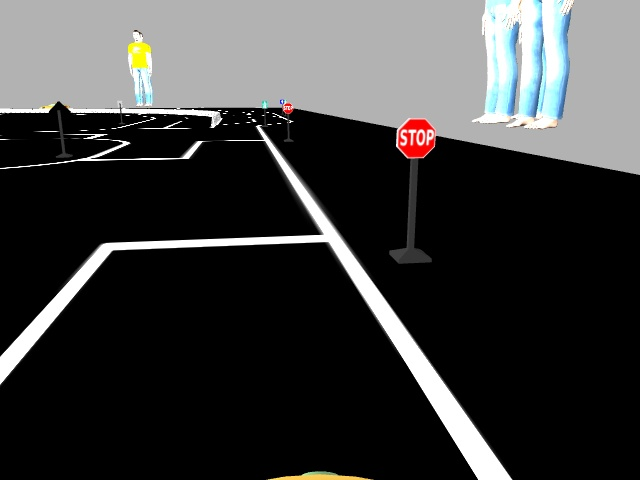Stop: (396, 117, 436, 158), (283, 102, 293, 113)
